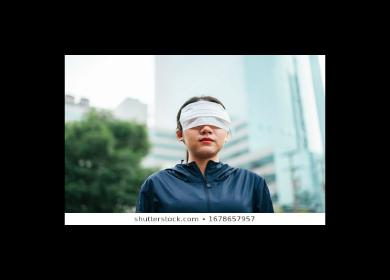mask_weared_incorrect: (186, 107, 225, 153)
